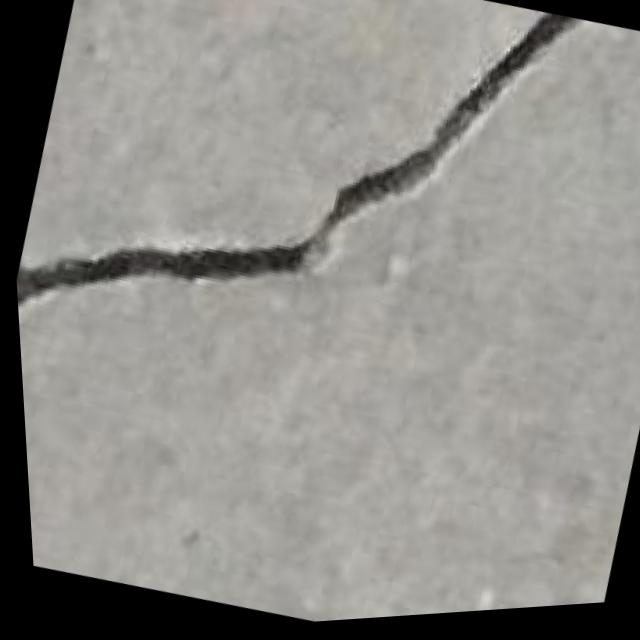Crack: (0, 0, 601, 445)
